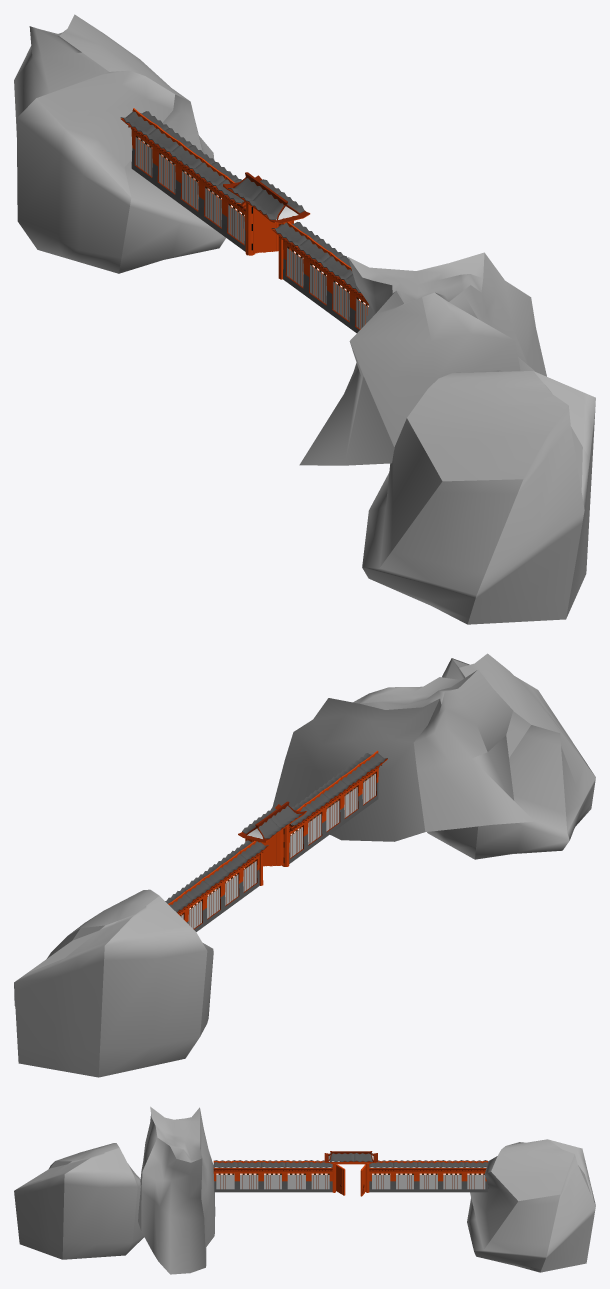
Rendered from gate_p.fbx.
The picture shows the model from 3 angles, top to bottom: view 1: azimuth 30°, elevation 25°; view 2: azimuth 150°, elevation 25°; view 3: azimuth 270°, elevation 25°; orthographic projection. The views are drawn at different scales.
Parts seen in each view (by area): view 1: pedra2, pedra3, pedra1, pasted__pasted__pCube56, pasted__pasted__pCube61, pasted__pasted__pCube41, pasted__pasted__pCube46, pasted__pasted__pCube53, pasted__pasted__pCube42, pasted__pasted__pCube37, pasted__pasted__pCube12, pasted__pasted__pCube58 (+1 smaller); view 2: pedra1, pedra3, pedra2, pasted__pasted__pCube14, pasted__pasted__pCube56, pasted__pasted__pCube61, pasted__pasted__pCube50, pasted__pasted__pCube58, pasted__pasted__pCube53, pasted__pasted__pCube41, pasted__pasted__pCube35, pasted__pasted__pCube10 (+1 smaller); view 3: pedra3, pedra2, pedra1, pasted__pasted__pCube37, pasted__pasted__pCube46, pasted__pasted__pCube35, pasted__pasted__pCube50, pasted__pasted__pCube53, pasted__pasted__pCube56, pasted__pasted__pCube61, pasted__pasted__pCube41, pasted__pasted__pCube58 (+3 smaller).
Boxes of the visible parts, x1,y1,x2,y2 form: pedra2: (362,370,595,624); pedra3: (14,14,225,273); pedra1: (299,252,546,465); pasted__pasted__pCube56: (200,178,224,235); pasted__pasted__pCube61: (327,271,352,329); pasted__pasted__pCube41: (306,256,329,312); pasted__pasted__pCube46: (281,237,306,295); pasted__pasted__pCube53: (177,161,201,218); pasted__pasted__pCube42: (131,129,155,185); pasted__pasted__pCube37: (153,144,178,202); pasted__pasted__pCube12: (253,207,278,253); pasted__pasted__pCube58: (223,195,245,251); pedra1: (272,669,534,841); pedra3: (14,889,213,1077); pedra2: (427,653,595,859); pasted__pasted__pCube14: (263,829,283,866); pasted__pasted__pCube56: (223,867,241,912); pasted__pasted__pCube61: (324,792,343,838); pasted__pasted__pCube50: (342,779,361,824); pasted__pasted__pCube58: (241,854,259,898); pasted__pasted__pCube53: (204,879,224,925); pasted__pasted__pCube41: (305,807,324,851); pasted__pasted__pCube35: (360,767,378,811); pasted__pasted__pCube10: (238,801,306,842); pedra3: (467,1139,595,1272); pedra2: (14,1143,143,1259); pedra1: (138,1106,215,1274); pasted__pasted__pCube37: (440,1170,464,1192); pasted__pasted__pCube46: (308,1170,332,1192); pasted__pasted__pCube35: (213,1170,237,1192); pasted__pasted__pCube50: (237,1170,260,1192); pasted__pasted__pCube53: (417,1170,440,1192); pasted__pasted__pCube56: (393,1170,416,1192); pasted__pasted__pCube61: (261,1170,284,1192); pasted__pasted__pCube41: (285,1170,308,1192); pasted__pasted__pCube58: (369,1170,392,1192).
Size of the model in its own units: 18.53 by 14.71 by 61.11.
